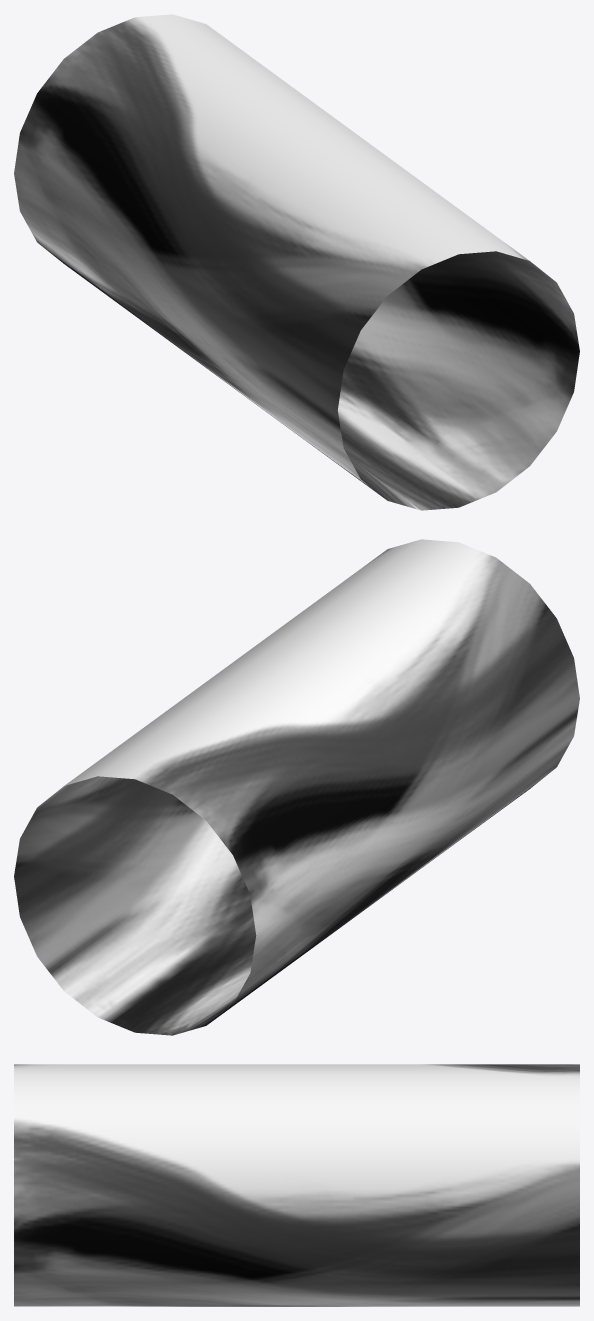
The model's file is M_OuterWireV1.fbx.
3 views of the same model, one above another, from view 1: azimuth 30°, elevation 25°; view 2: azimuth 150°, elevation 25°; view 3: azimuth 270°, elevation 25° (orthographic). The views are drawn at different scales.
Visible parts, largest first — view 1: pCylinder1; view 2: pCylinder1; view 3: pCylinder1.
Part boxes in pixels (bbox=[...]): pCylinder1: bbox=[14, 14, 579, 510]; pCylinder1: bbox=[14, 539, 579, 1035]; pCylinder1: bbox=[14, 1064, 579, 1306].
Size of the model in its own units: 2 by 2 by 4.63.
1 material, 1 textured.
